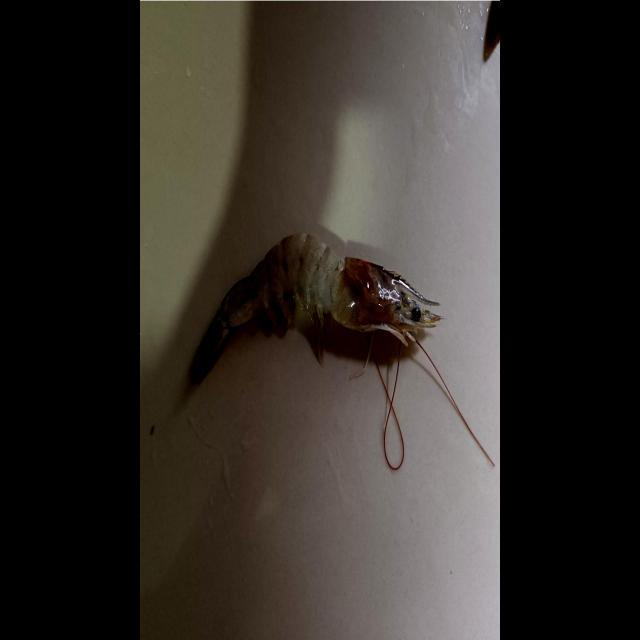shrimp: (192, 234, 440, 384)
